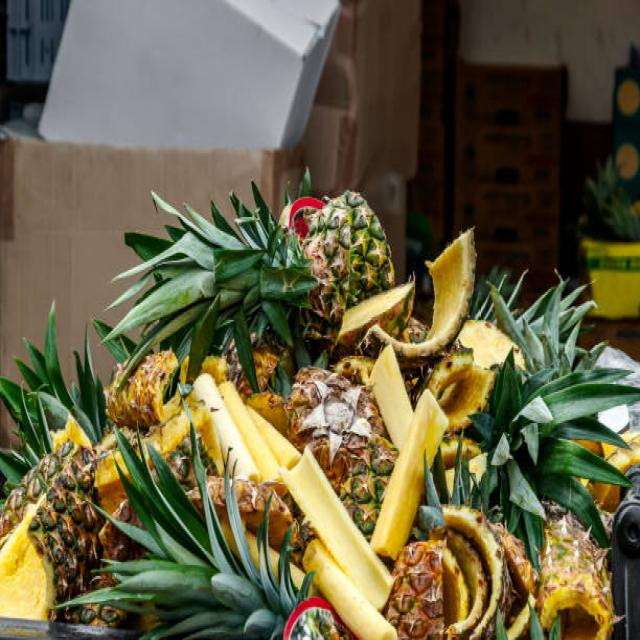trash: (11, 198, 626, 604)
